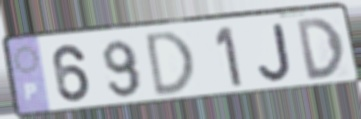1: (213, 25, 247, 90)
6: (50, 42, 94, 105)
9: (100, 37, 144, 100)
D: (144, 29, 197, 101), (293, 15, 347, 83)
J: (257, 21, 295, 84)
